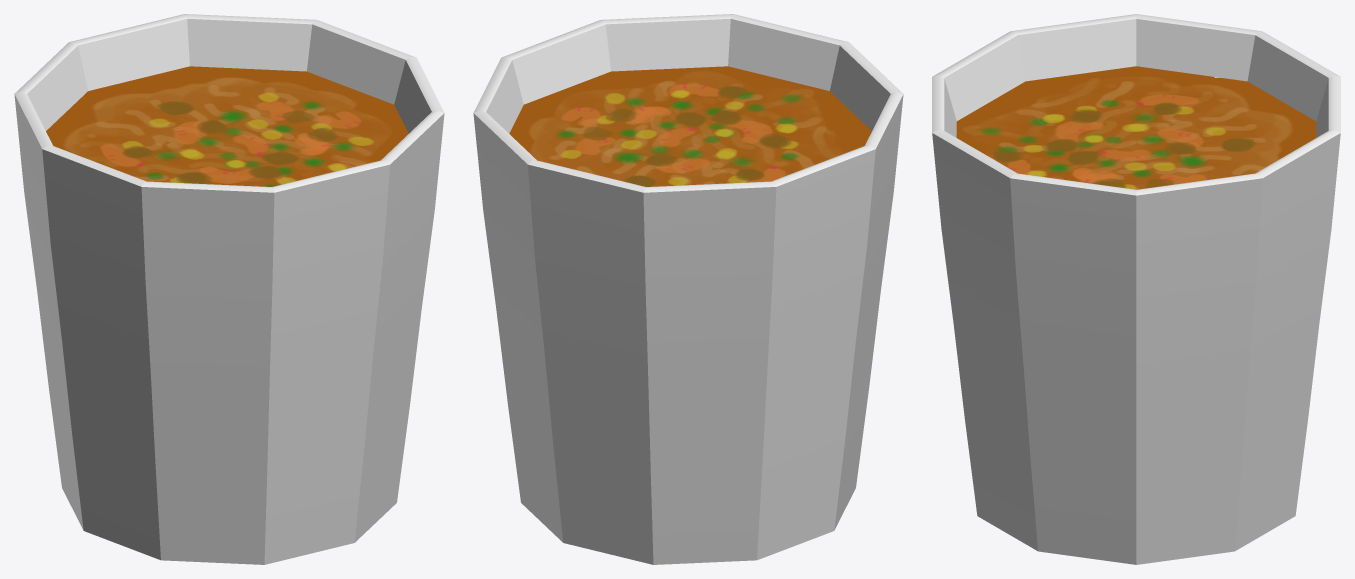
Rendered from Boss3.fbx.
3 views of the same model, side by side, from view 1: azimuth 30°, elevation 25°; view 2: azimuth 150°, elevation 25°; view 3: azimuth 270°, elevation 25° (orthographic).
Parts seen in each view (by area): view 1: pCylinder1; view 2: pCylinder1; view 3: pCylinder1.
Boxes of the visible parts, box(x1,y1,x2,y2) form: pCylinder1: box(14, 14, 444, 564); pCylinder1: box(473, 14, 903, 564); pCylinder1: box(932, 14, 1340, 564).
Size of the model in its own units: 200 by 201 by 190.
1 material, 1 textured.
